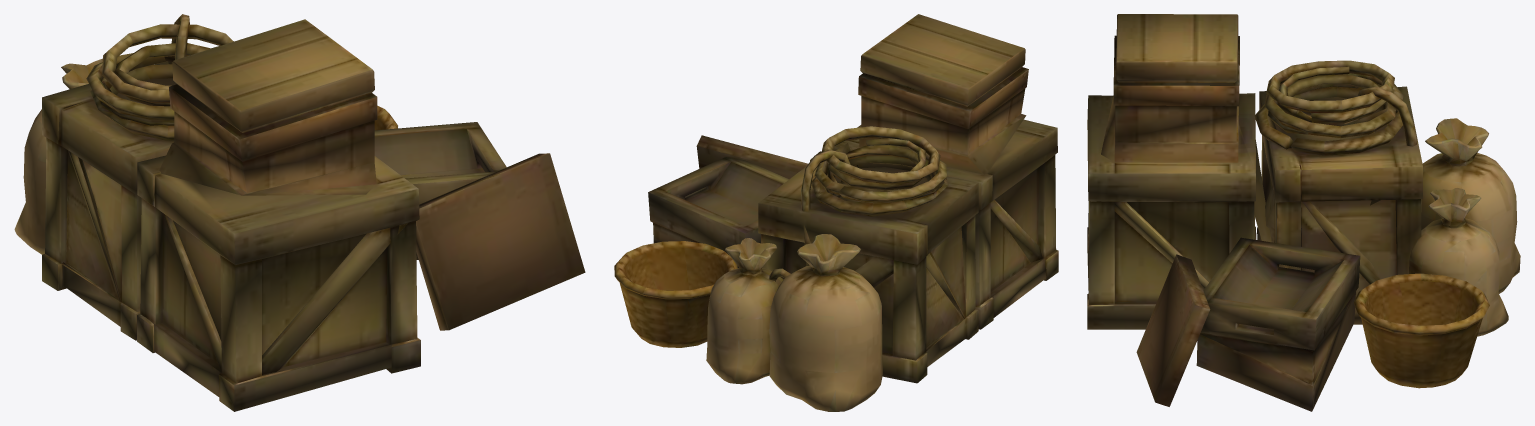
Rendered from crates-and-bags.glb.
3 renders of one model, left to right at view 1: azimuth 30°, elevation 25°; view 2: azimuth 150°, elevation 25°; view 3: azimuth 270°, elevation 25°, orthographic. The views are drawn at different scales.
Visible parts, largest first — view 1: tripo_node_95737f4b-fabe-4932-9cdc-956a2ceabe80; view 2: tripo_node_95737f4b-fabe-4932-9cdc-956a2ceabe80; view 3: tripo_node_95737f4b-fabe-4932-9cdc-956a2ceabe80.
Part boxes in pixels (x1,y1,x2,y2): tripo_node_95737f4b-fabe-4932-9cdc-956a2ceabe80: [14, 14, 585, 411]; tripo_node_95737f4b-fabe-4932-9cdc-956a2ceabe80: [614, 14, 1058, 411]; tripo_node_95737f4b-fabe-4932-9cdc-956a2ceabe80: [1087, 14, 1520, 411].
Bounding box in the file's own units: 0.9277 × 0.6582 × 0.998.
1 material, 1 textured.
